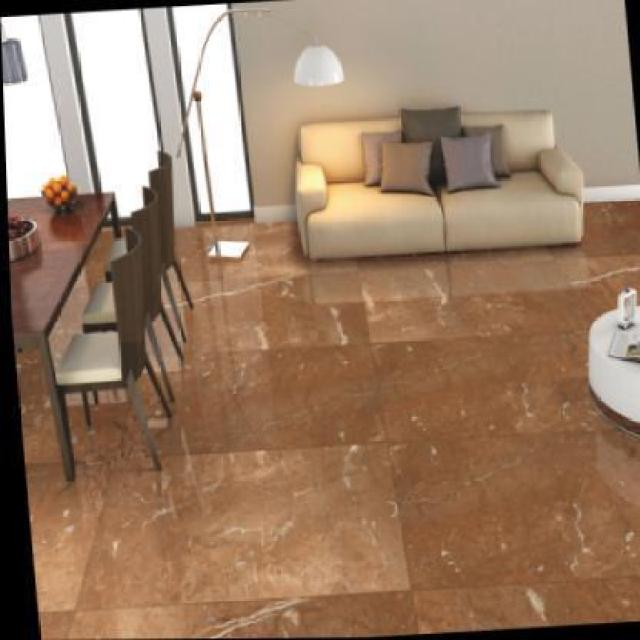tables: (6, 189, 116, 480)
